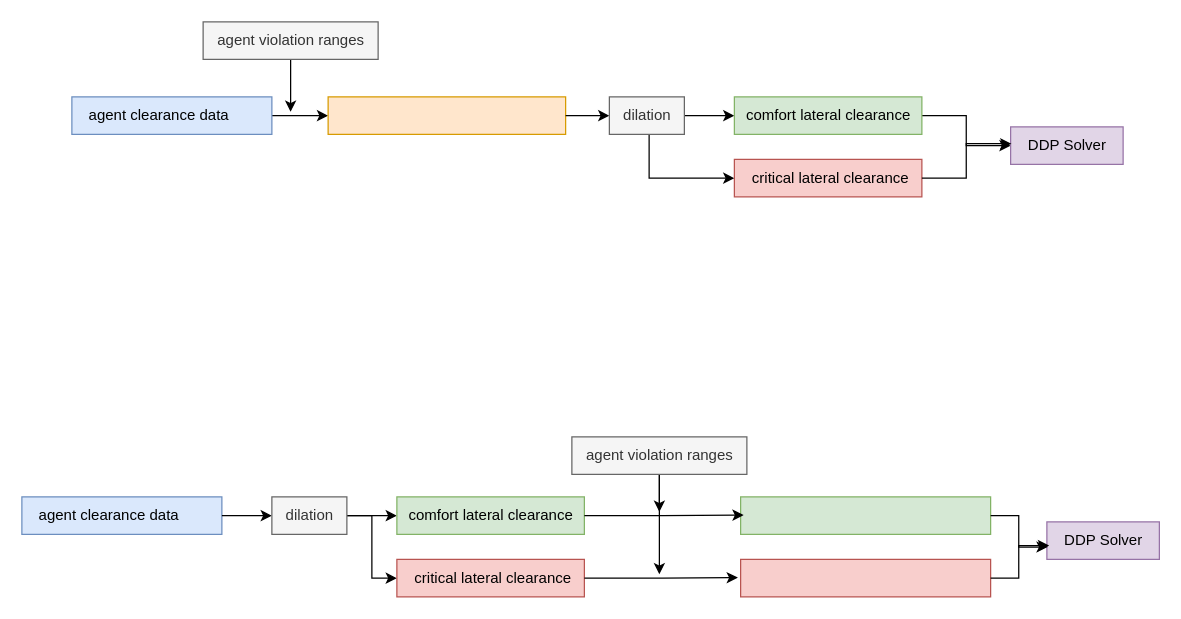
Some shapes in this 1181 by 619 pixel diagram are drawn without their labels. The box of each missing label's shape, as (x1, y1, x2, y2) in pixels:
relaxed agent lateral clearance: (327, 96, 566, 134)
relaxed comfort lateral clearance: (739, 496, 991, 534)
relaxed critical lateral clearance: (739, 558, 991, 597)
